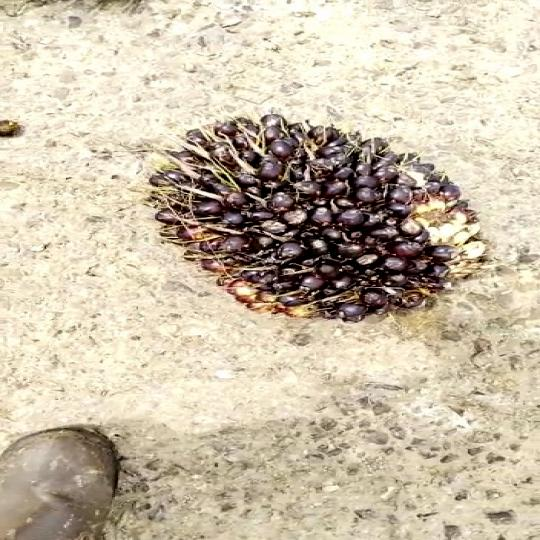mentah: (143, 104, 495, 337)
